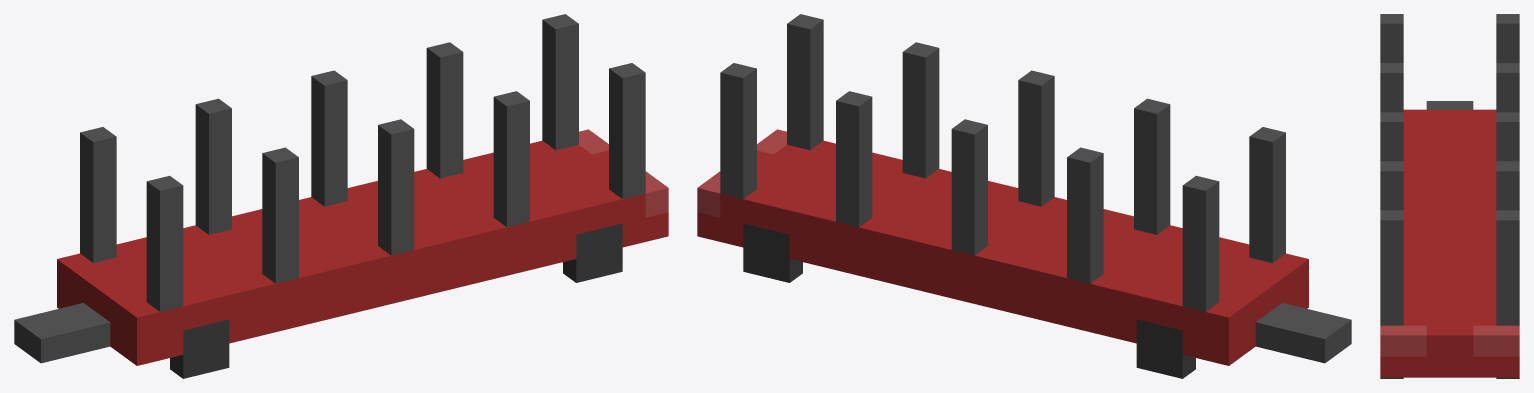
File: truck-trailer-v4-red.gltf
3 renders of one model, left to right at view 1: azimuth 30°, elevation 25°; view 2: azimuth 150°, elevation 25°; view 3: azimuth 270°, elevation 25°, orthographic. The views are drawn at different scales.
Visible parts, largest first — view 1: model, wheels; view 2: model, wheels; view 3: model.
Boxes of the visible parts, box(x1,y1,x2,y2) form: model: box(14, 14, 668, 365); wheels: box(170, 223, 622, 378); model: box(697, 14, 1351, 365); wheels: box(743, 223, 1195, 378); model: box(1380, 14, 1519, 377).
Bounding box in the file's own units: 2.6 × 0.8 × 0.6.
2 materials, 2 textured.
